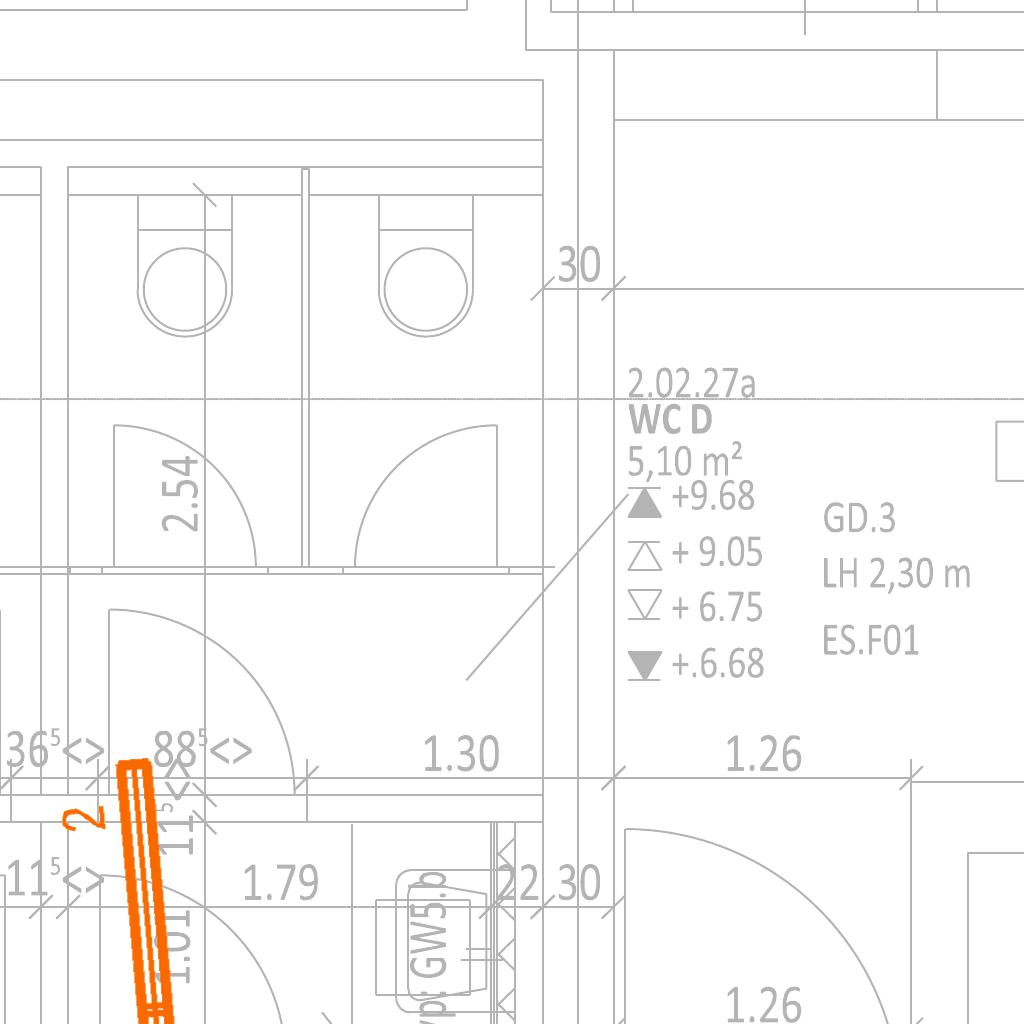Ambulanz_Pendelleuchte_LED: (51, 747, 231, 1024)
